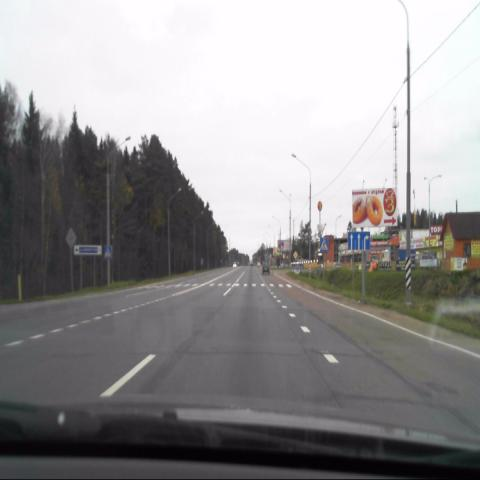5_15_1: (348, 231, 370, 251)
5_19_1: (320, 238, 328, 251)
